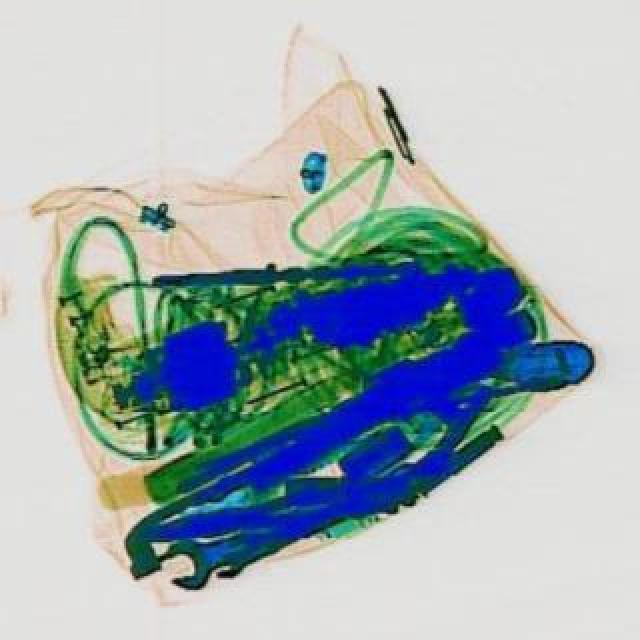scissors: (150, 496, 324, 594)
